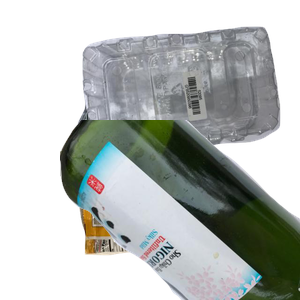glass: (60, 120, 300, 300)
metal: (74, 74, 257, 254)
plastic: (80, 24, 300, 172)
trash: (76, 159, 259, 300)
